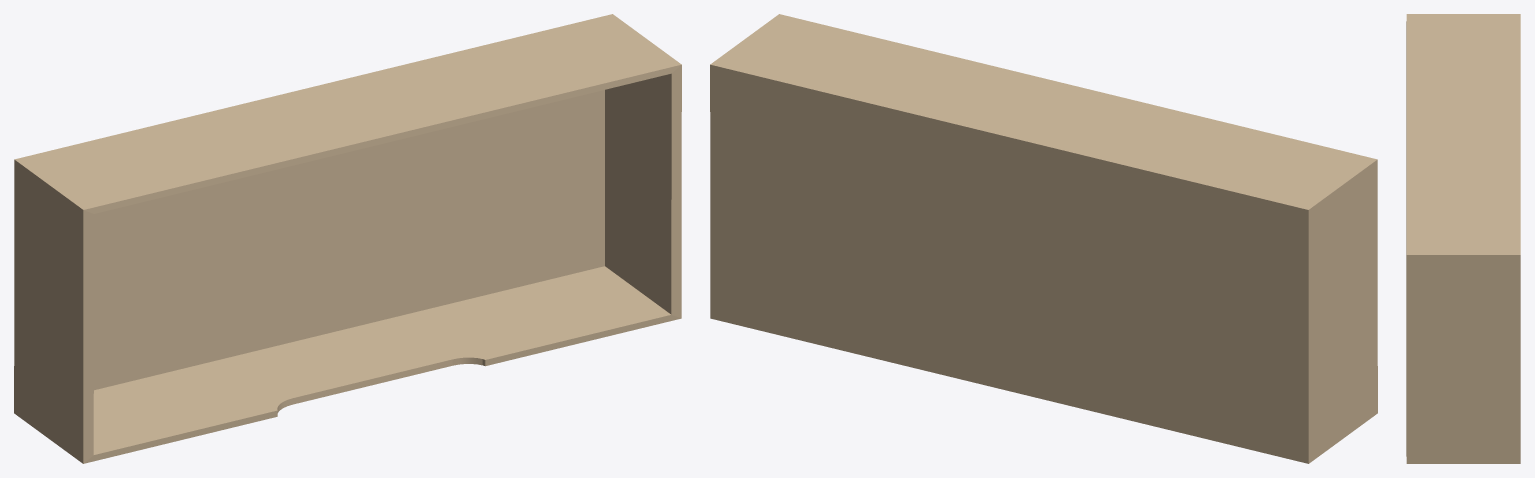
File: DrawermeshRobothorDresserDrawer_2_Anes_2.obj
3 views of the same model, side by side, from view 1: azimuth 30°, elevation 25°; view 2: azimuth 150°, elevation 25°; view 3: azimuth 270°, elevation 25° (orthographic). The views are drawn at different scales.
Visible parts, largest first — view 1: RobothorDresserDrawer_2_Anes; view 2: RobothorDresserDrawer_2_Anes; view 3: RobothorDresserDrawer_2_Anes.
Boxes of the visible parts, <box> form: RobothorDresserDrawer_2_Anes: <box>14,14,681,463</box>; RobothorDresserDrawer_2_Anes: <box>710,14,1377,463</box>; RobothorDresserDrawer_2_Anes: <box>1406,14,1520,463</box>.
Bounding box in the file's own units: 0.9268 × 0.3765 × 0.1857.
